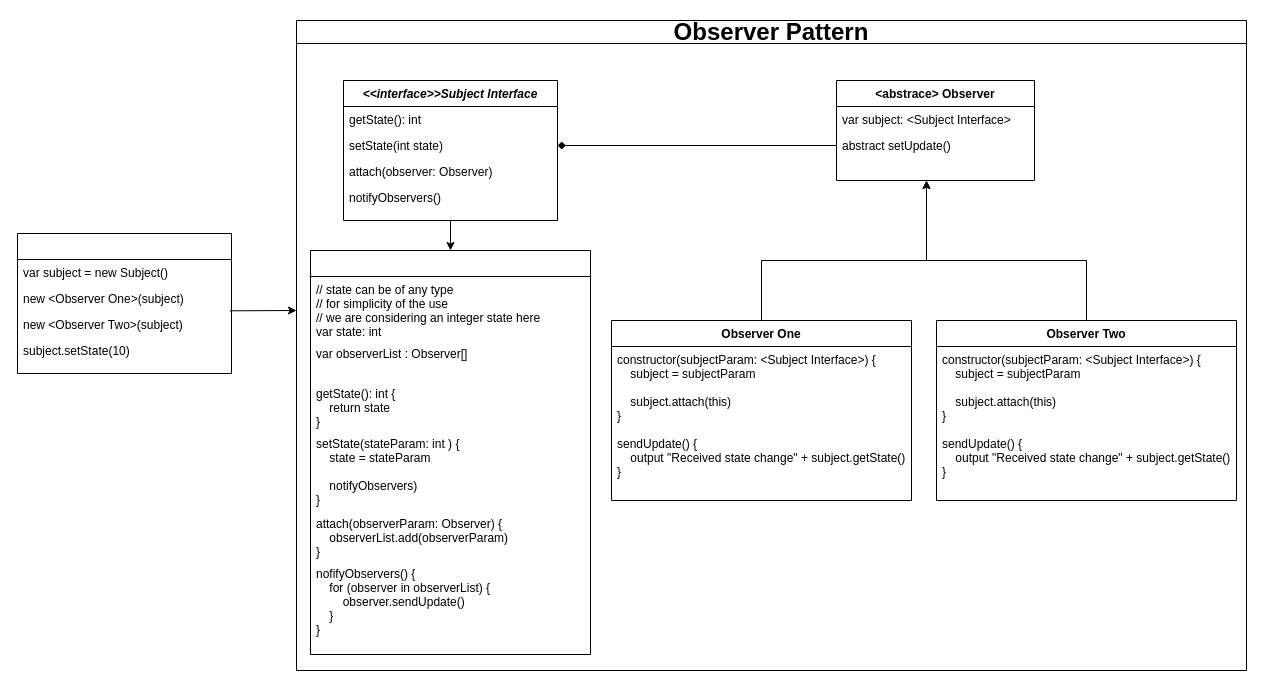
The diagram is 1264 pixels wide and 688 high, and some of its shapes have lost their labels. Each missing label, with the box of its shape:
Client: (16, 232, 232, 374)
Subject: (310, 250, 590, 654)
